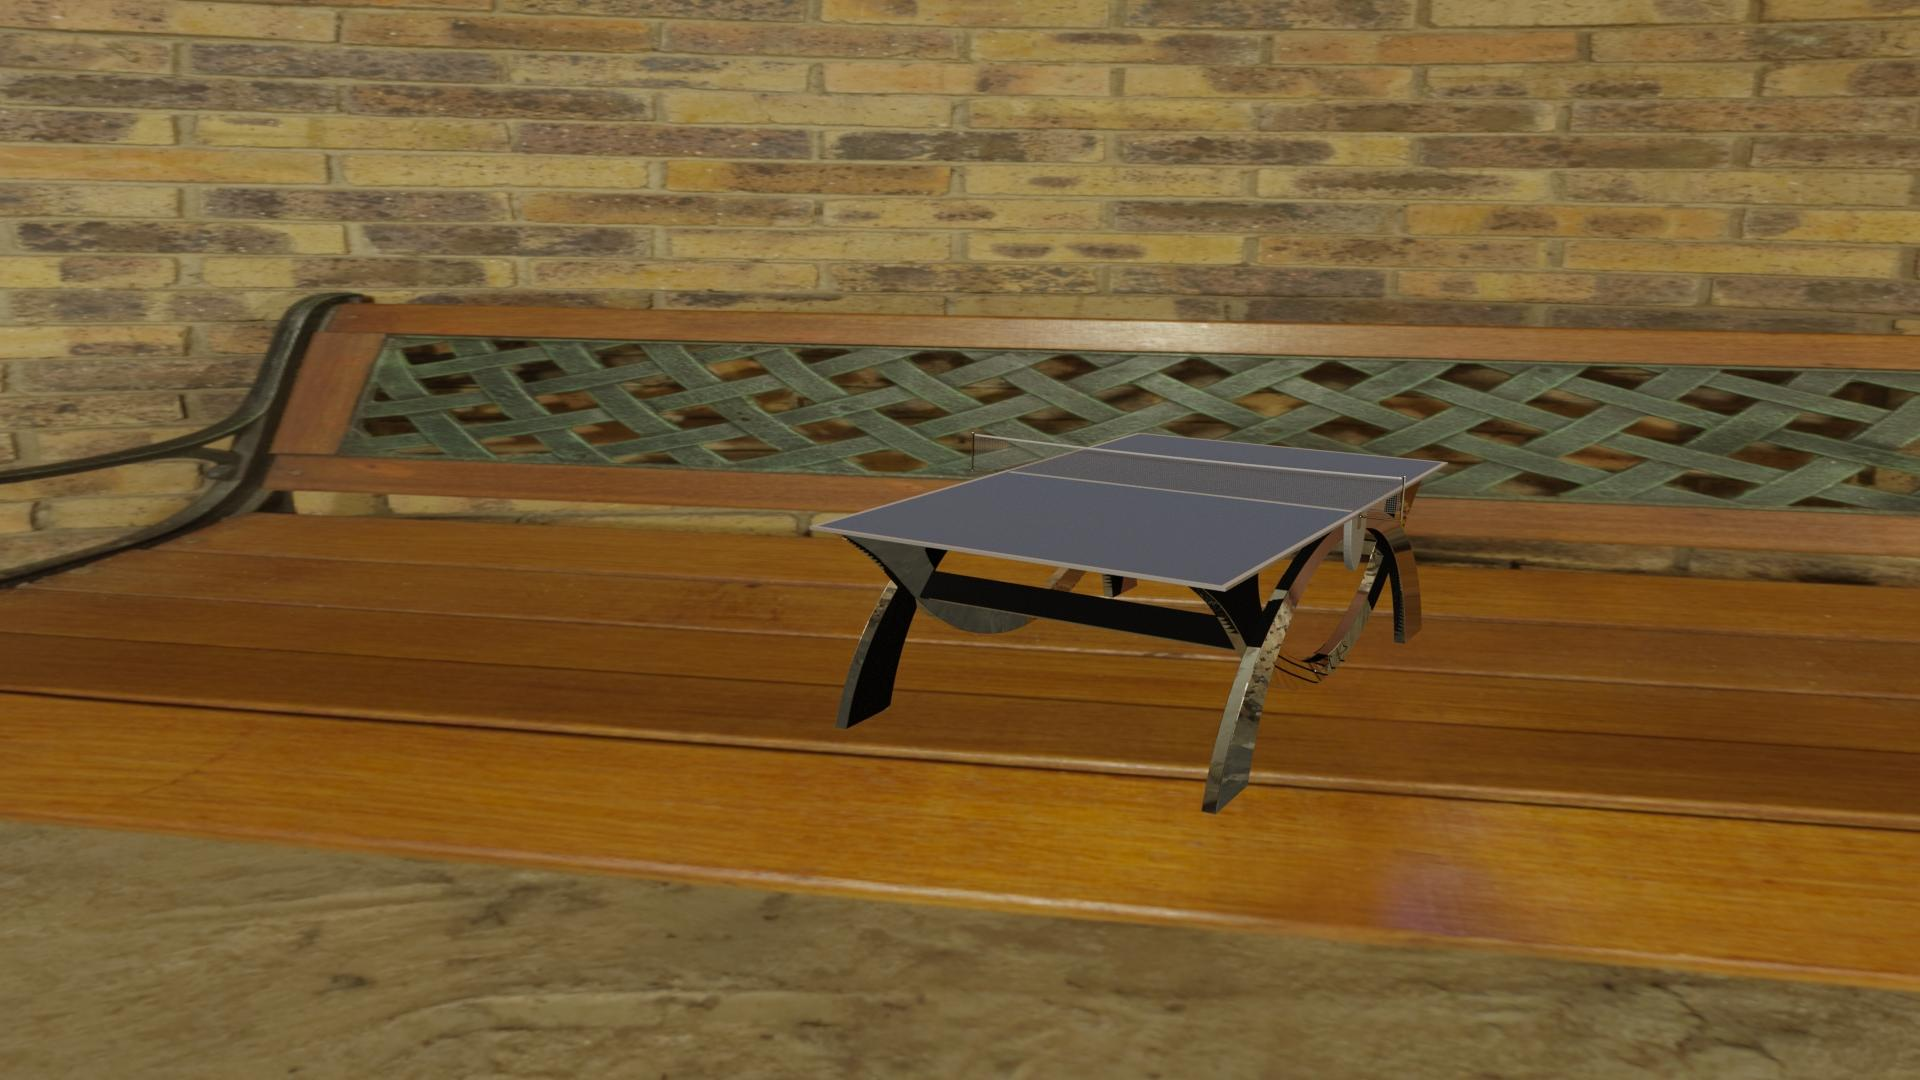table: (818, 434, 1443, 585)
